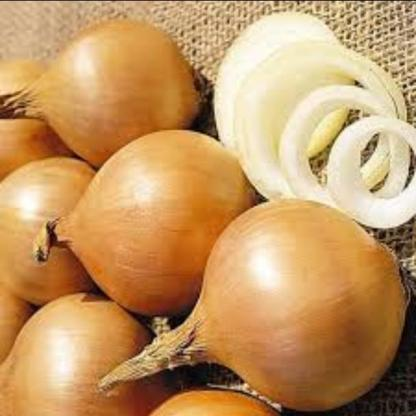onion: (154, 198, 410, 412), (197, 6, 416, 224), (50, 124, 247, 326), (10, 16, 216, 181), (0, 296, 167, 416), (0, 162, 108, 303)
